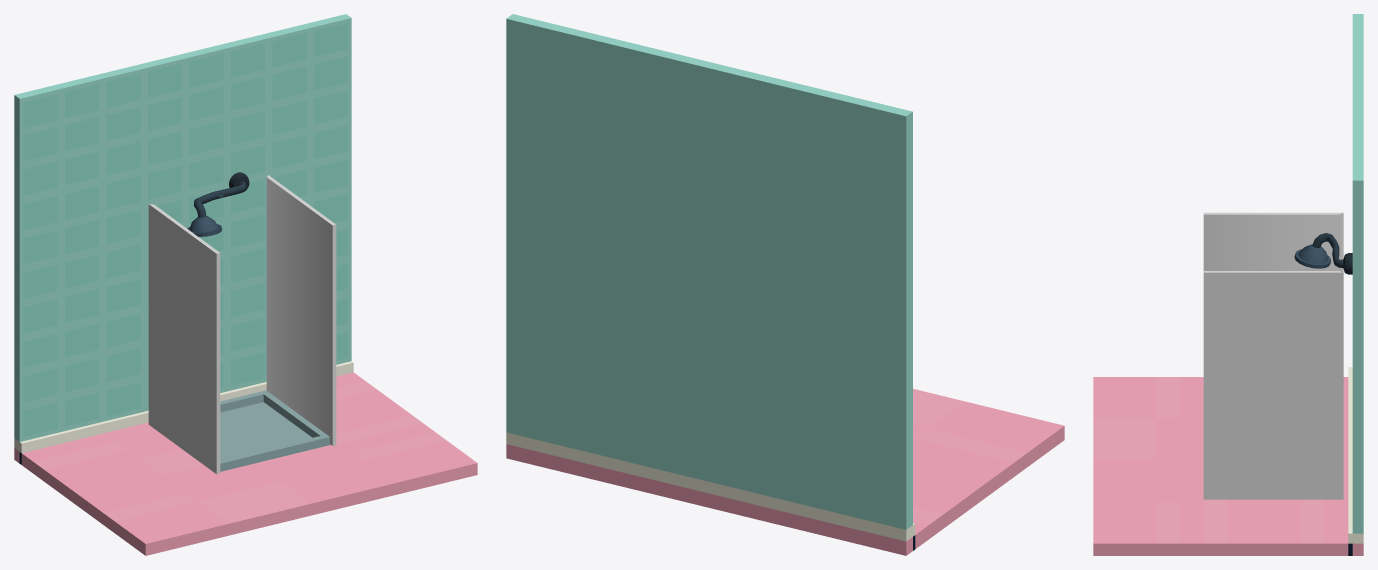
The model's file is ShowerSetting.fbx.
3 renders of one model, left to right at view 1: azimuth 30°, elevation 25°; view 2: azimuth 150°, elevation 25°; view 3: azimuth 270°, elevation 25°, orthographic. The views are drawn at different scales.
Visible parts, largest first — view 1: Walls.003, Glasses.001, ShowerBasin.001, PipeTop.001; view 2: Walls.003; view 3: Glasses.001, Walls.003, PipeTop.001.
Part boxes in pixels (x1,y1,x2,y2): Walls.003: (14,14,477,555); Glasses.001: (148,175,336,474); ShowerBasin.001: (220,390,329,471); PipeTop.001: (187,172,249,236); Walls.003: (506,14,1064,555); Glasses.001: (1203,212,1343,499); Walls.003: (1093,14,1363,555); PipeTop.001: (1294,233,1352,274).
Size of the model in its own units: 884 by 929 by 606.
